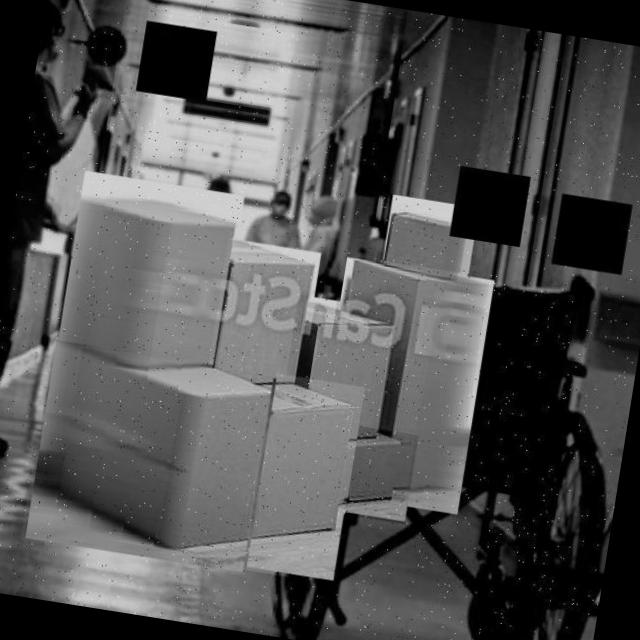box: (20, 342, 277, 576), (306, 254, 496, 518), (52, 168, 246, 382), (244, 373, 365, 584), (274, 294, 402, 466), (208, 237, 322, 385), (378, 193, 478, 284), (332, 425, 418, 525)
